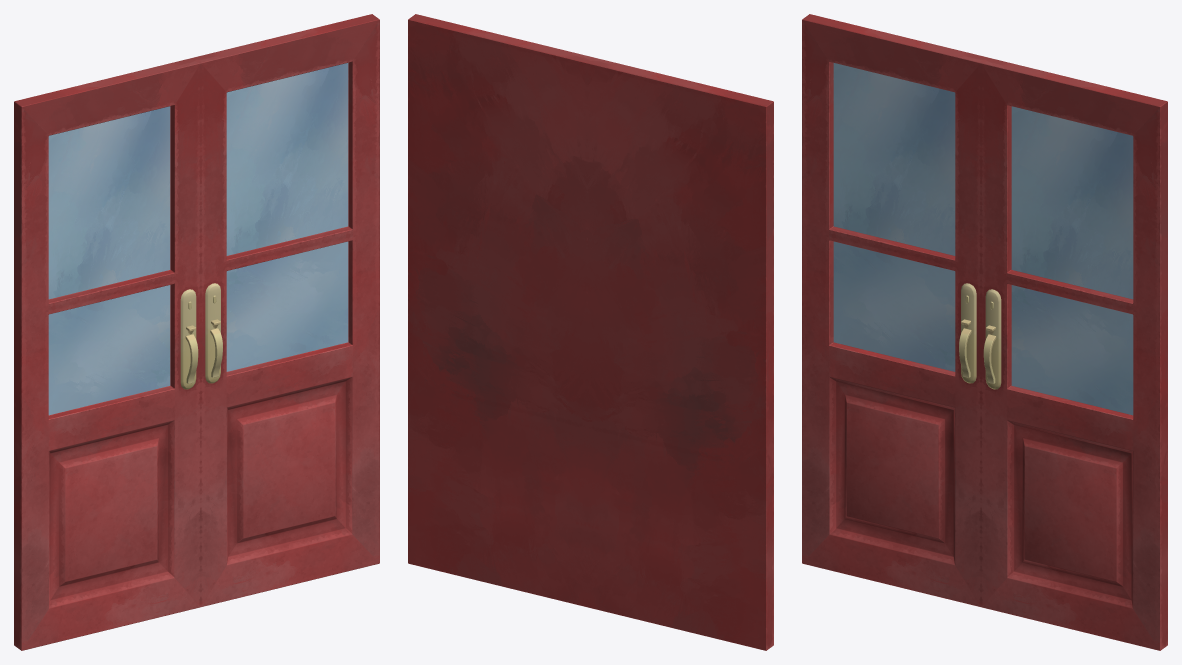
File: Double door.fbx
3 renders of one model, left to right at view 1: azimuth 30°, elevation 25°; view 2: azimuth 150°, elevation 25°; view 3: azimuth 330°, elevation 25°, orthographic.
Visible parts, largest first — view 1: Double door; view 2: Double door; view 3: Double door.
Boxes of the visible parts, x1=… form: Double door: x1=14, y1=14, x2=379, y2=650; Double door: x1=408, y1=14, x2=773, y2=650; Double door: x1=802, y1=14, x2=1167, y2=650.
Size of the model in its own units: 123 by 179 by 8.63.
